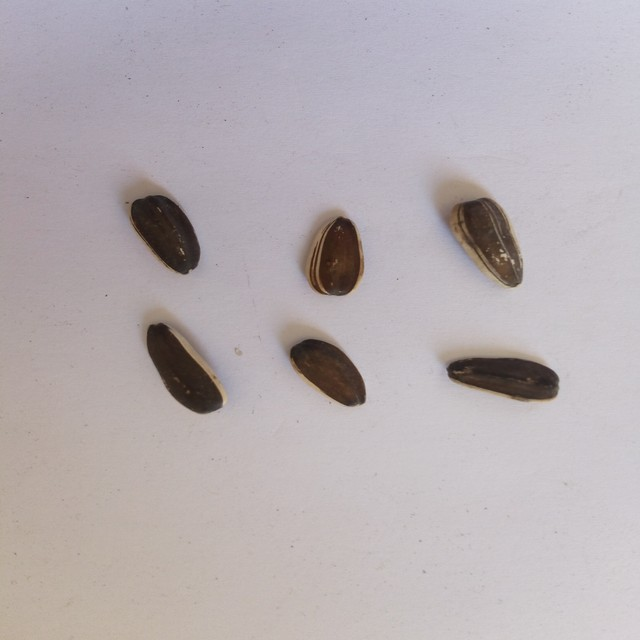girasol: (137, 317, 231, 417), (442, 191, 530, 292), (125, 190, 209, 277), (282, 334, 370, 415), (443, 351, 569, 406), (309, 212, 369, 299)
